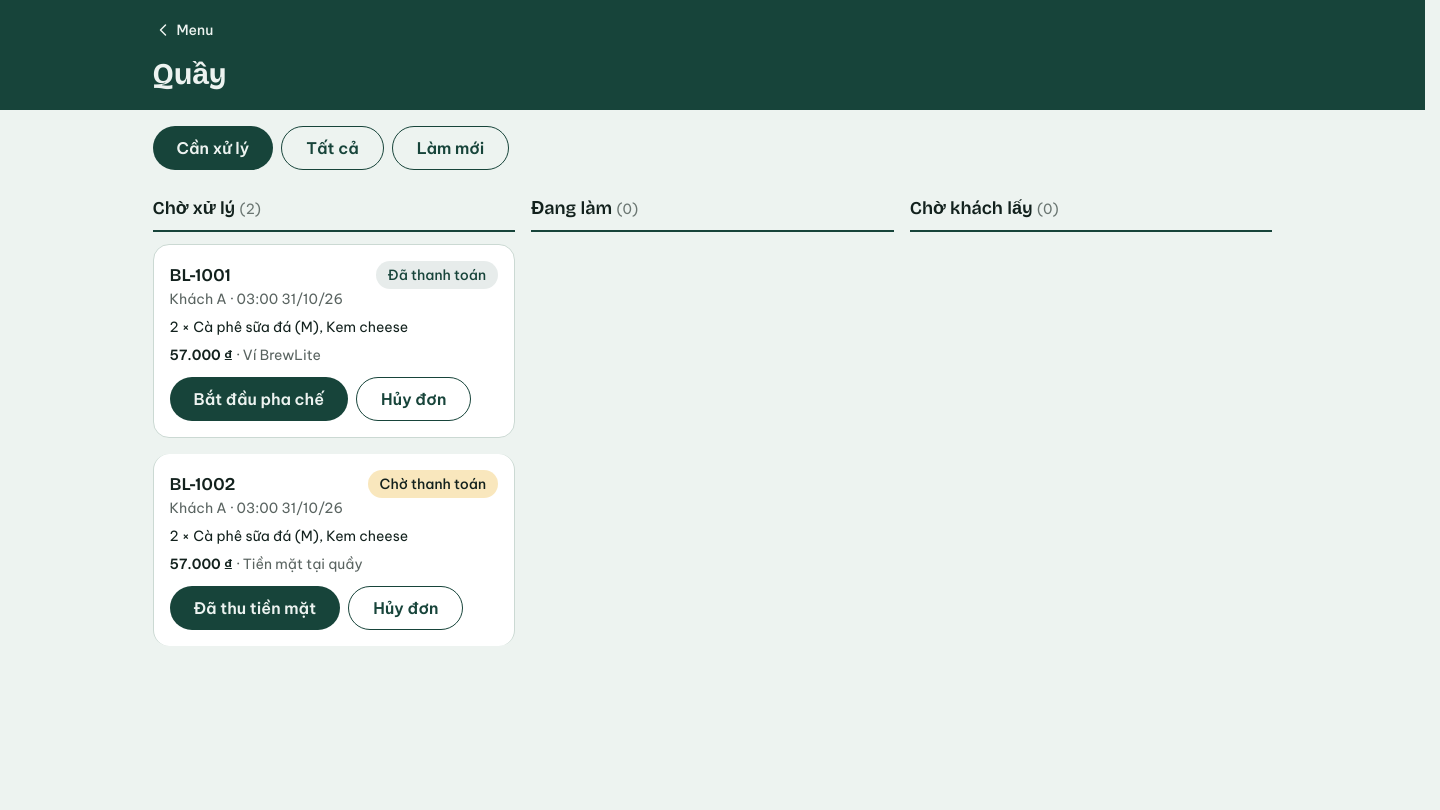
StaffOrdersScreen › chuyển trạng thái đơn theo đúng bước tiếp theo
expect the text "BL-1001" is shown: met, box [170, 264, 231, 286]
What coordinates should you click on to do the following:
click the button "Bắt đầu pha chế"
I would click on:
 (259, 398)
Its box is [170, 376, 348, 420].
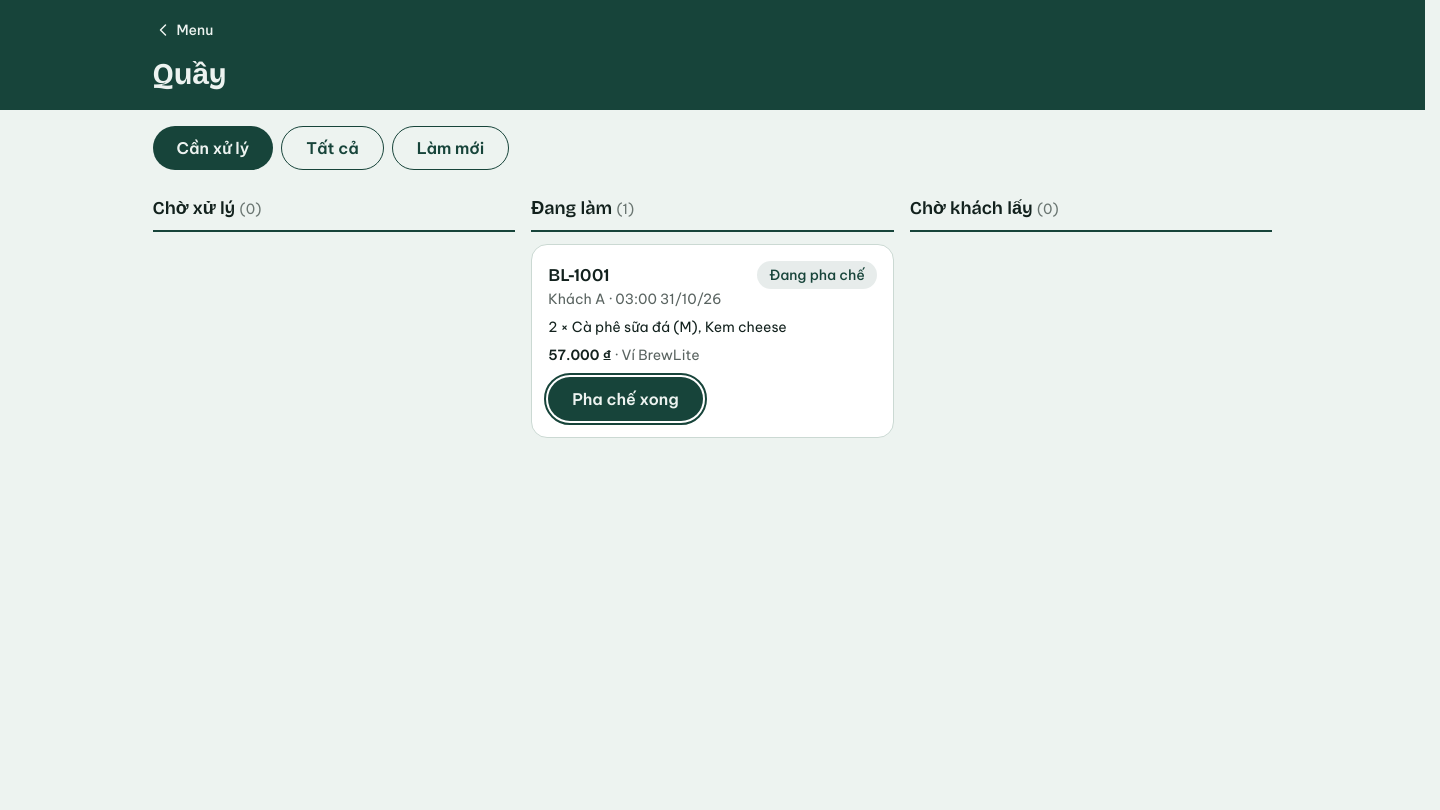
expect the button "Pha chế xong" is shown: met, box [548, 376, 703, 420]
